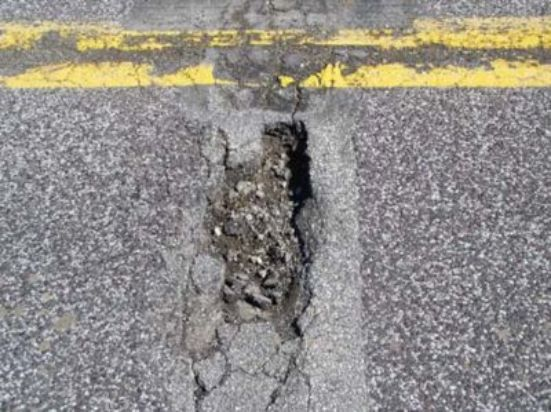pothole: (202, 115, 320, 349)
